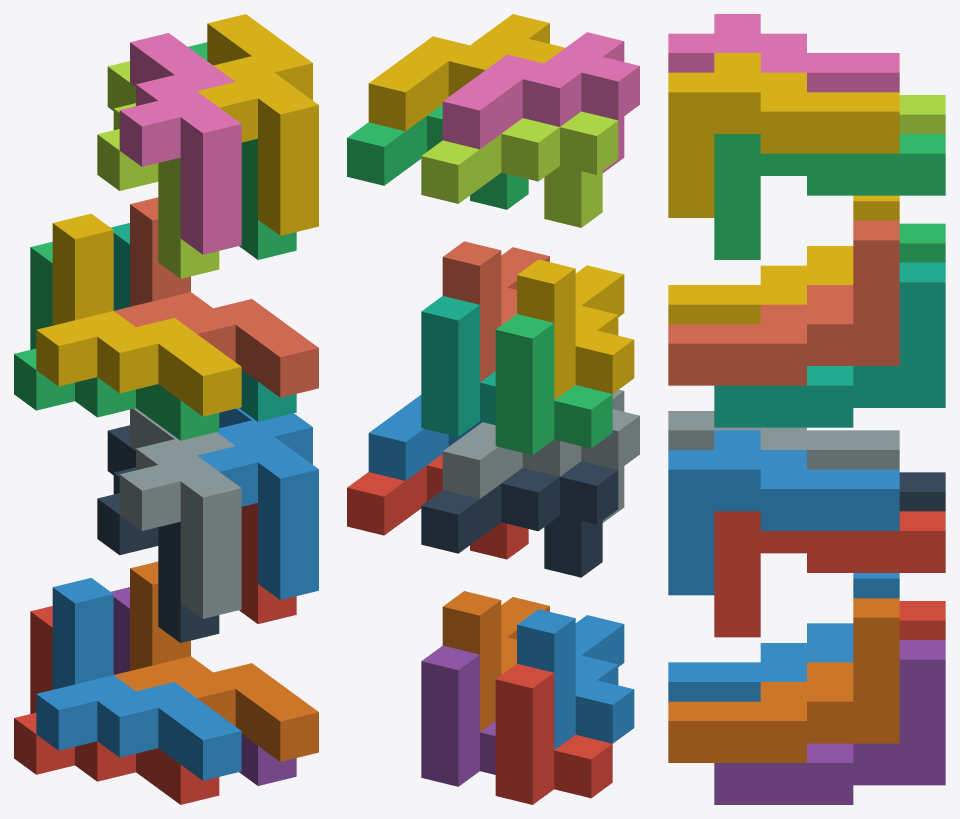
The model's file is tiling.obj.
The picture shows the model from 3 angles, left to right: view 1: azimuth 30°, elevation 25°; view 2: azimuth 150°, elevation 25°; view 3: azimuth 270°, elevation 25°; orthographic projection. The views are drawn at different scales.
Parts seen in each view (by area): view 1: copy_1_domain_4, copy_1_domain_2, copy_2_domain_4, copy_2_domain_8, copy_2_domain_2, copy_2_domain_6, copy_1_domain_8, copy_1_domain_6, copy_1_domain_1, copy_1_domain_3, copy_2_domain_3, copy_2_domain_1 (+4 smaller); view 2: copy_2_domain_4, copy_2_domain_1, copy_2_domain_3, copy_1_domain_2, copy_1_domain_4, copy_1_domain_1, copy_1_domain_3, copy_2_domain_8, copy_1_domain_5, copy_1_domain_7, copy_2_domain_2, copy_1_domain_8 (+4 smaller); view 3: copy_2_domain_8, copy_2_domain_6, copy_1_domain_6, copy_1_domain_8, copy_1_domain_7, copy_1_domain_5, copy_2_domain_7, copy_2_domain_5, copy_2_domain_4, copy_1_domain_2, copy_1_domain_4, copy_2_domain_2 (+4 smaller).
Boxes of the visible parts, <box> form: copy_1_domain_4: <box>36,213,241,416</box>; copy_1_domain_2: <box>36,578,241,780</box>; copy_2_domain_4: <box>119,33,241,254</box>; copy_2_domain_8: <box>197,14,318,235</box>; copy_2_domain_2: <box>119,408,241,618</box>; copy_2_domain_6: <box>197,408,318,599</box>; copy_1_domain_8: <box>114,197,318,397</box>; copy_1_domain_6: <box>114,561,318,761</box>; copy_1_domain_1: <box>14,606,219,804</box>; copy_1_domain_3: <box>14,242,219,440</box>; copy_2_domain_3: <box>97,61,219,278</box>; copy_2_domain_1: <box>97,425,219,642</box>; copy_2_domain_4: <box>442,32,639,172</box>; copy_2_domain_1: <box>421,461,618,577</box>; copy_2_domain_3: <box>421,111,618,227</box>; copy_1_domain_2: <box>517,609,634,749</box>; copy_1_domain_4: <box>517,259,634,400</box>; copy_1_domain_1: <box>495,663,612,804</box>; copy_1_domain_3: <box>495,314,612,455</box>; copy_2_domain_8: <box>368,14,565,131</box>; copy_1_domain_5: <box>421,645,495,786</box>; copy_1_domain_7: <box>421,296,495,436</box>; copy_2_domain_2: <box>442,389,639,522</box>; copy_1_domain_8: <box>442,241,549,381</box>; copy_2_domain_8: <box>668,53,899,217</box>; copy_2_domain_6: <box>668,430,899,595</box>; copy_1_domain_6: <box>668,598,899,762</box>; copy_1_domain_8: <box>668,220,899,385</box>; copy_1_domain_7: <box>714,262,945,427</box>; copy_1_domain_5: <box>714,640,945,804</box>; copy_2_domain_7: <box>714,134,945,259</box>; copy_2_domain_5: <box>714,511,945,637</box>; copy_2_domain_4: <box>668,14,899,92</box>; copy_1_domain_2: <box>668,573,899,701</box>; copy_1_domain_4: <box>668,195,899,324</box>; copy_2_domain_2: <box>668,411,899,469</box>.
Size of the model in its own units: 6 by 17 by 6.
